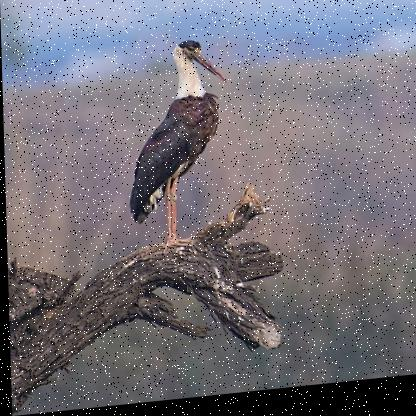Burung: (123, 41, 233, 253)
